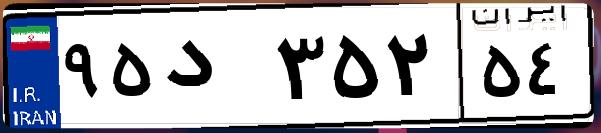2: (385, 28, 445, 110)
3: (270, 28, 330, 110)
4: (525, 38, 570, 115)
5: (330, 28, 385, 110), (475, 38, 525, 113), (110, 28, 158, 98)
9: (57, 26, 110, 100)
د: (158, 20, 270, 120)
